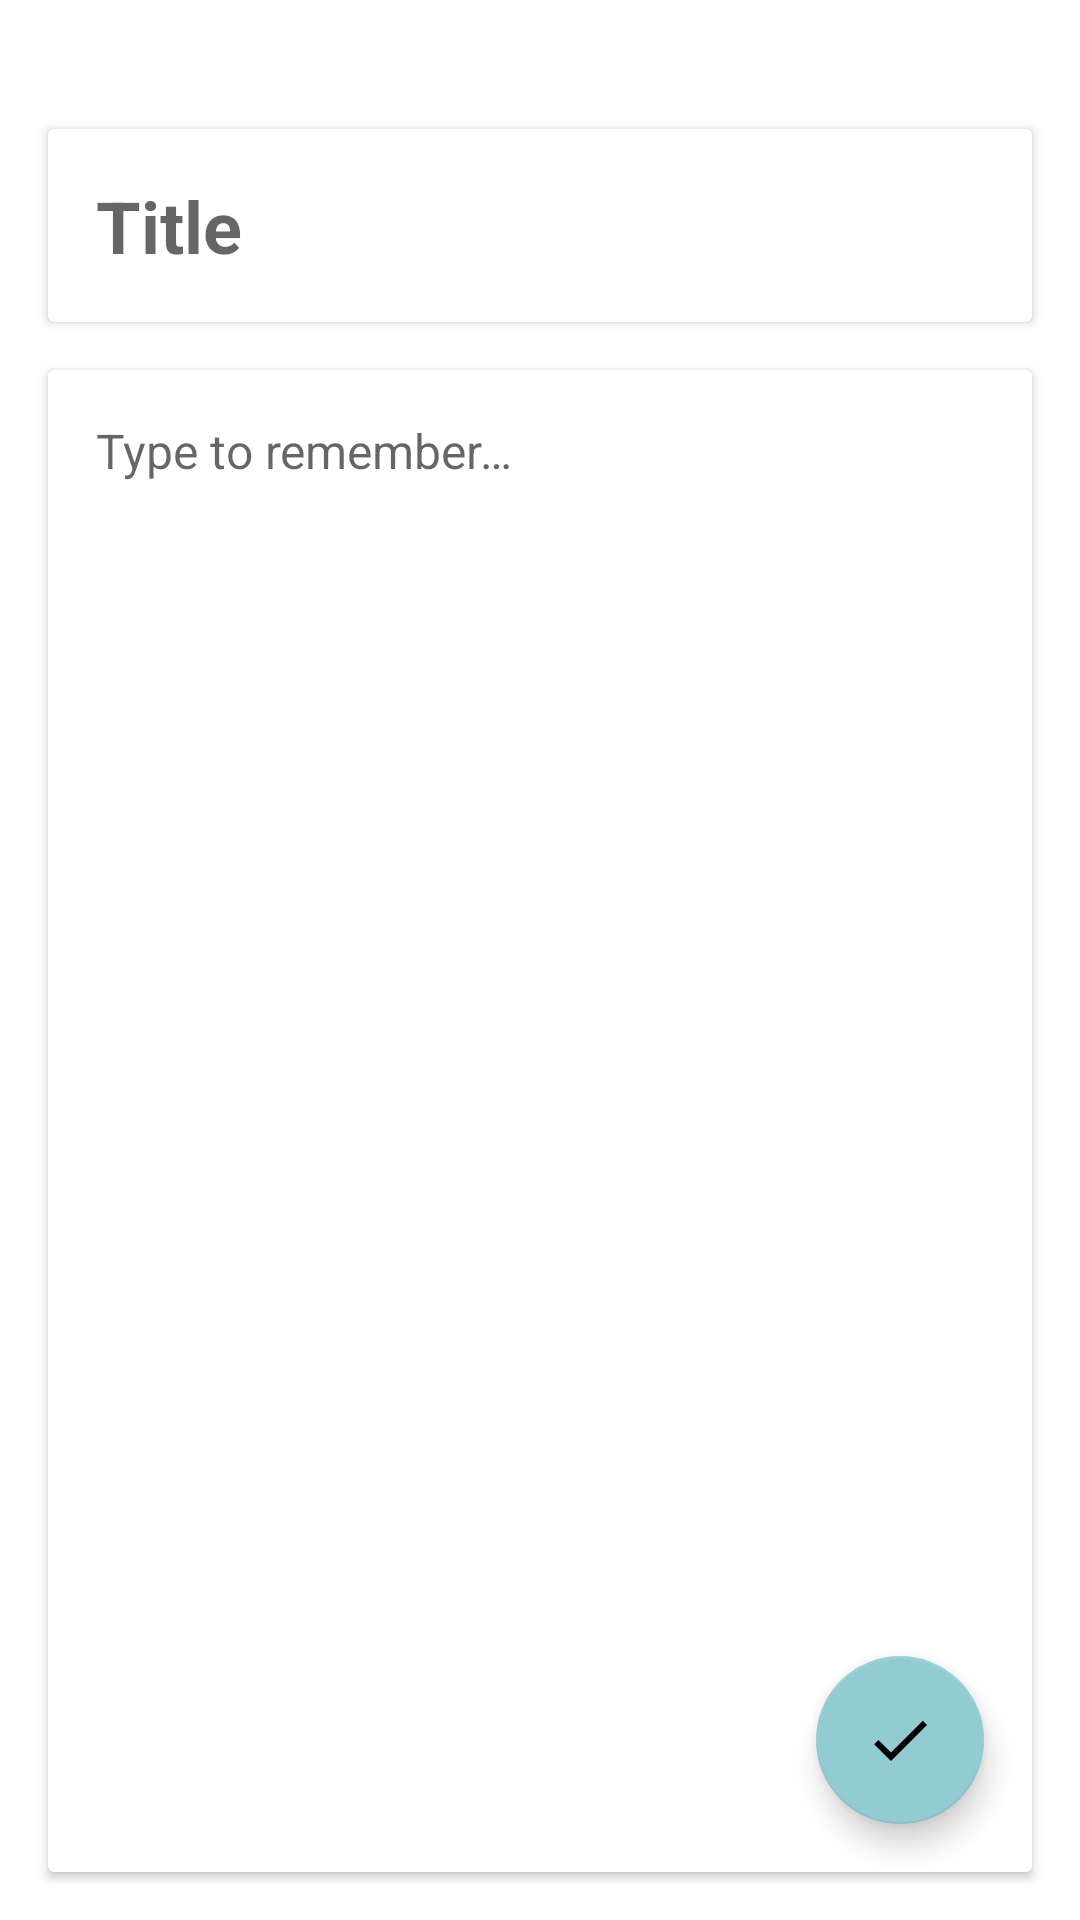

Icon click points for this 1080 × 1920 phone screenshot, format [x,y]:
done: [900,1740]
